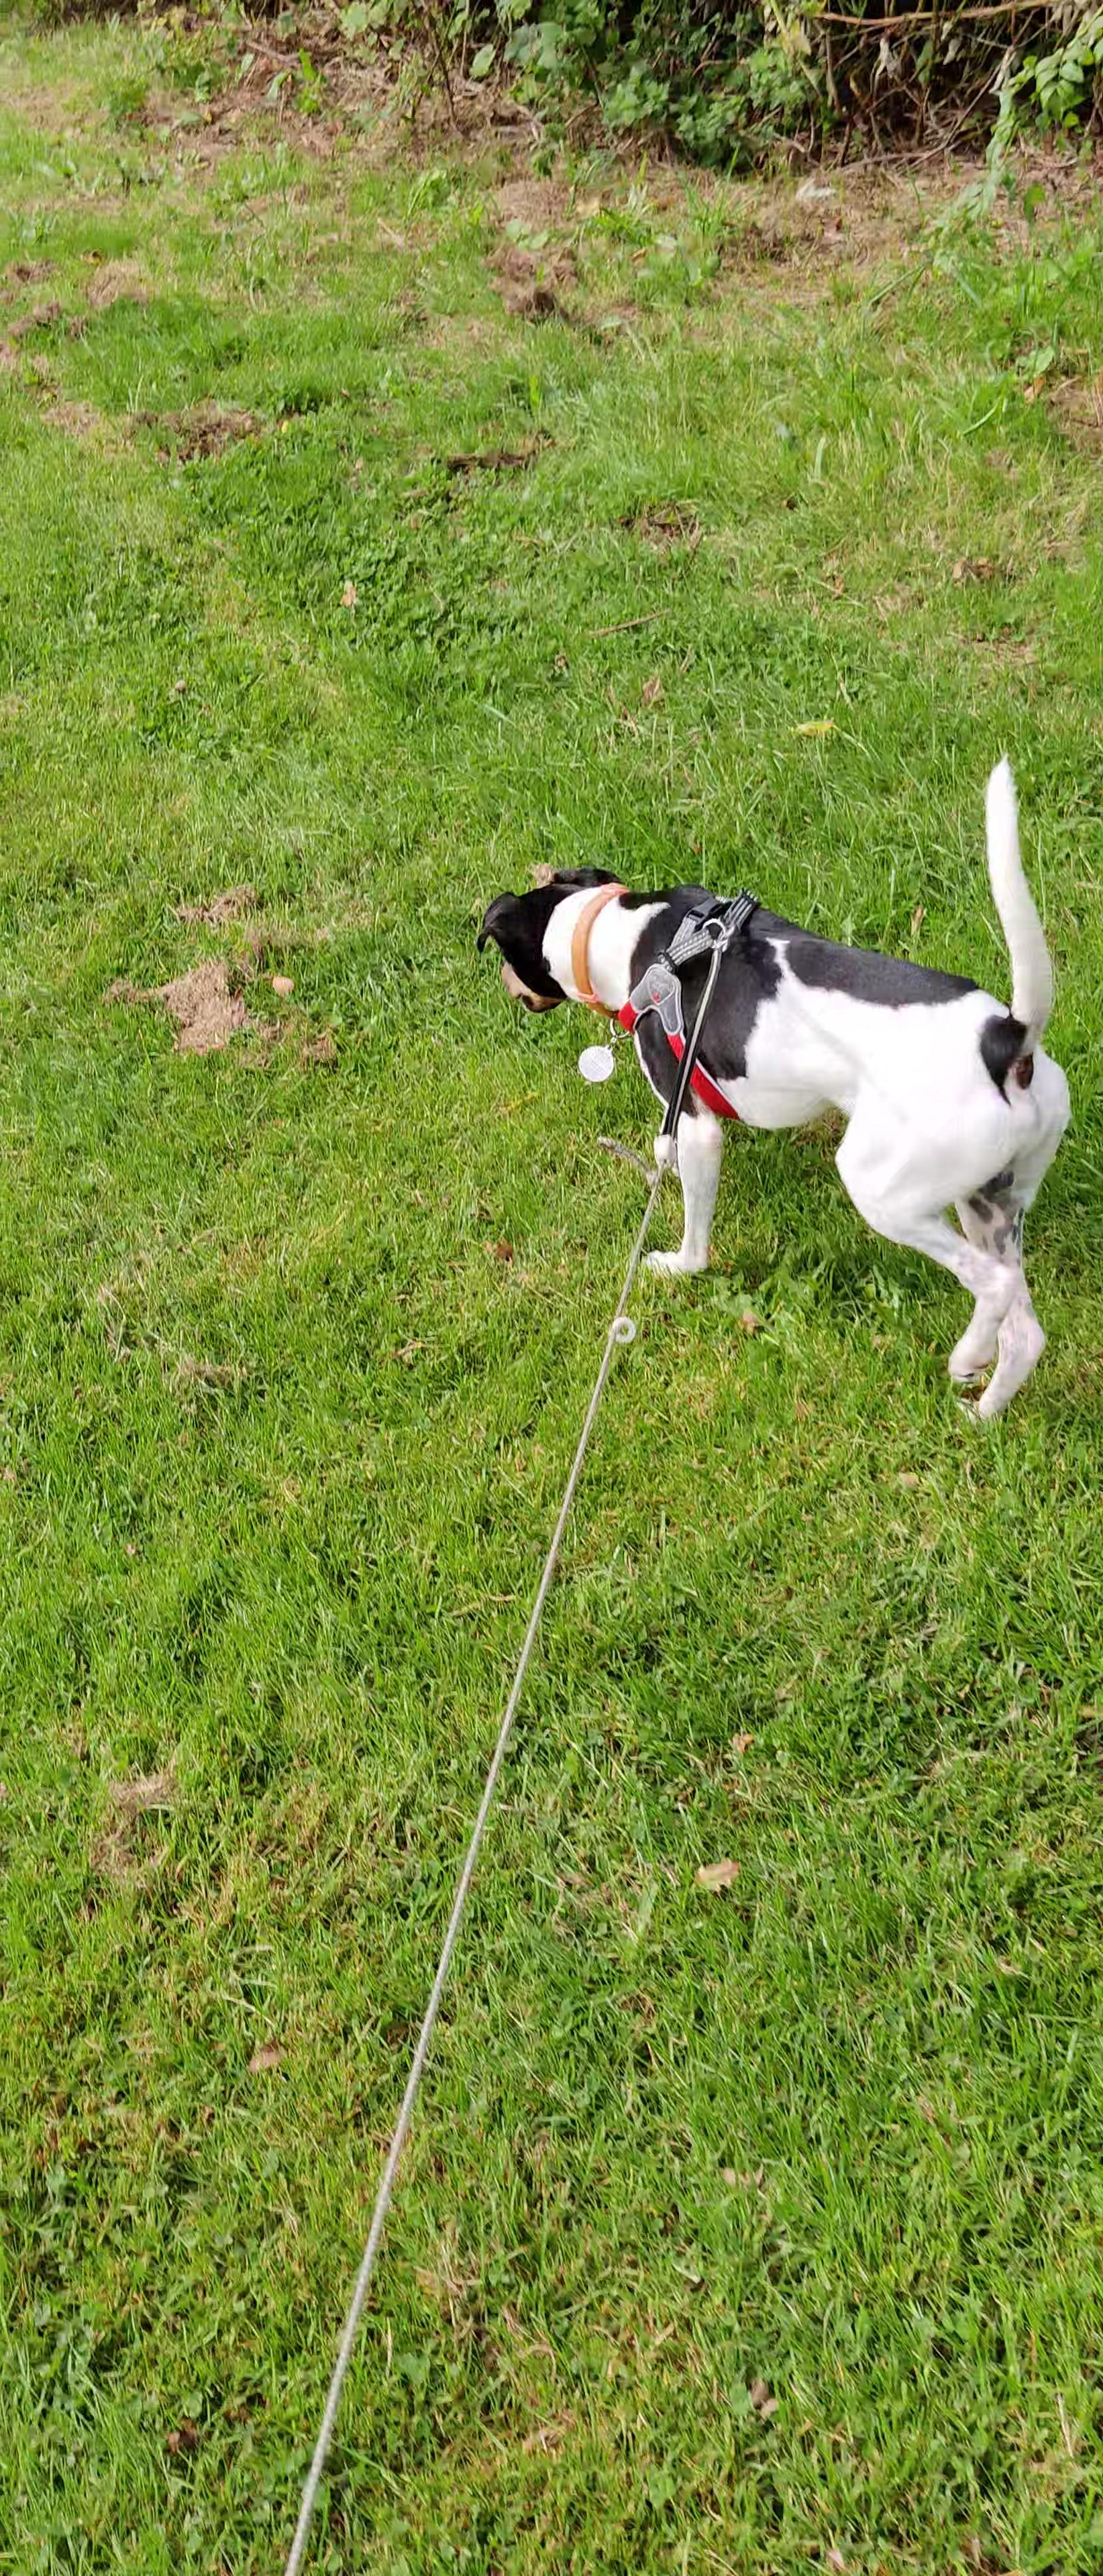Dog: (470, 746, 1080, 1426)
